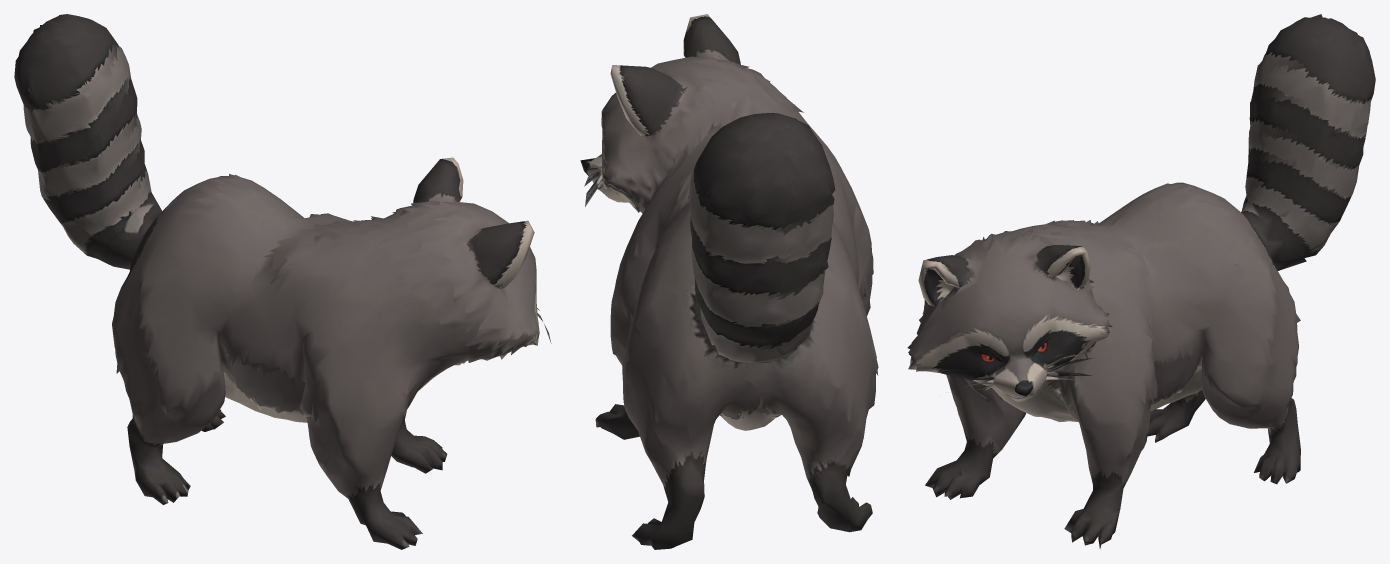
File: raccoon.glb
3 views of the same model, side by side, from view 1: azimuth 30°, elevation 25°; view 2: azimuth 150°, elevation 25°; view 3: azimuth 270°, elevation 25° (orthographic). The views are drawn at different scales.
Parts seen in each view (by area): view 1: tripo_node_75149156-f67c-49e4-b285-2122ac5d1e9a; view 2: tripo_node_75149156-f67c-49e4-b285-2122ac5d1e9a; view 3: tripo_node_75149156-f67c-49e4-b285-2122ac5d1e9a.
Part boxes in pixels (x1,y1,x2,y2): tripo_node_75149156-f67c-49e4-b285-2122ac5d1e9a: [14, 14, 551, 549]; tripo_node_75149156-f67c-49e4-b285-2122ac5d1e9a: [580, 14, 878, 549]; tripo_node_75149156-f67c-49e4-b285-2122ac5d1e9a: [907, 14, 1375, 548].
Bounding box in the file's own units: 0.8695 × 0.9602 × 1.
Materials: 1 (1 with a texture image).
